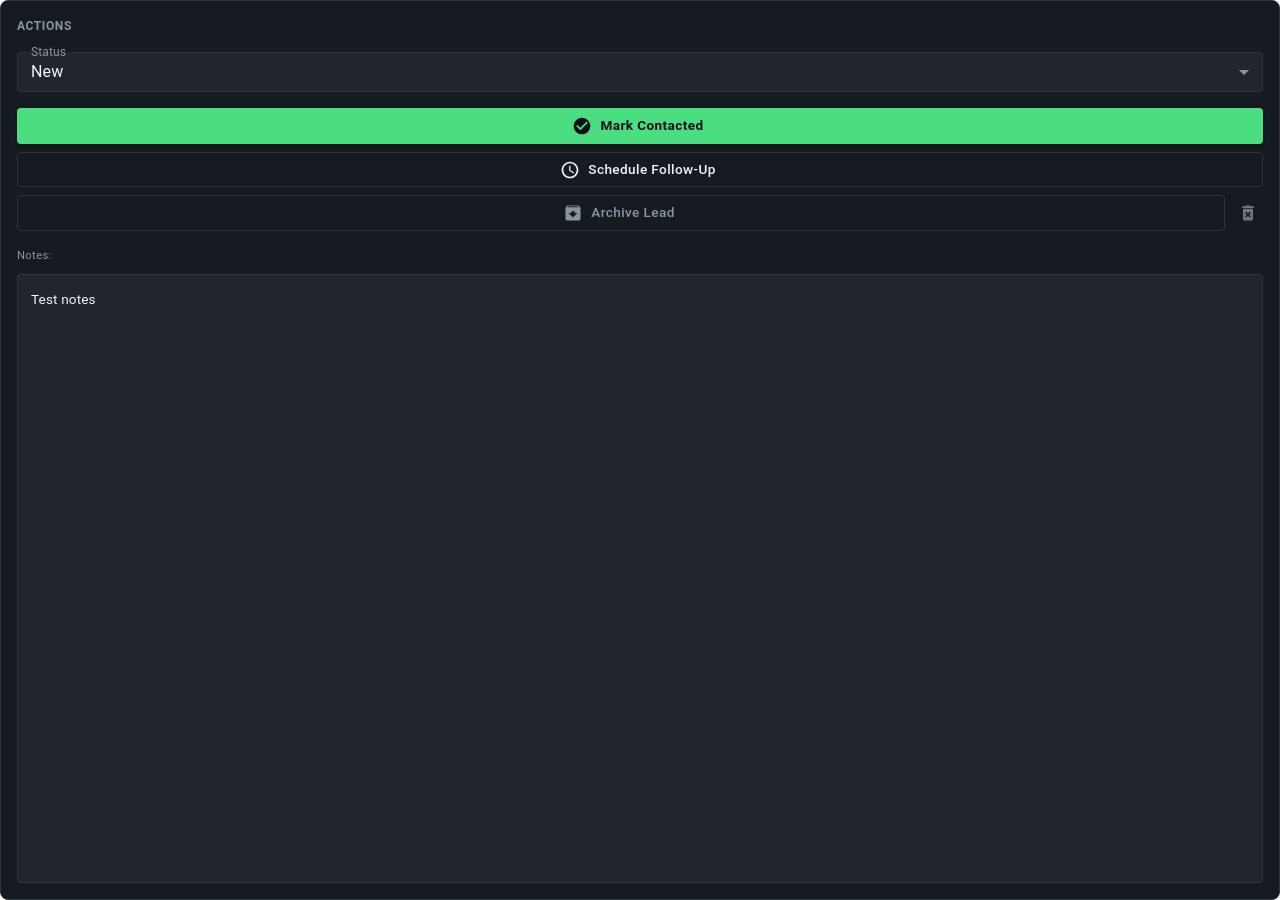
it: ActionsSection › Delete Permanently icon button › should open confirmation dialog when delete icon is clicked
The width and height of the screenshot is (1280, 900).
Click the button with test id "DeleteForeverIcon" at (1248, 213), box 1233,198 -> 1263,228
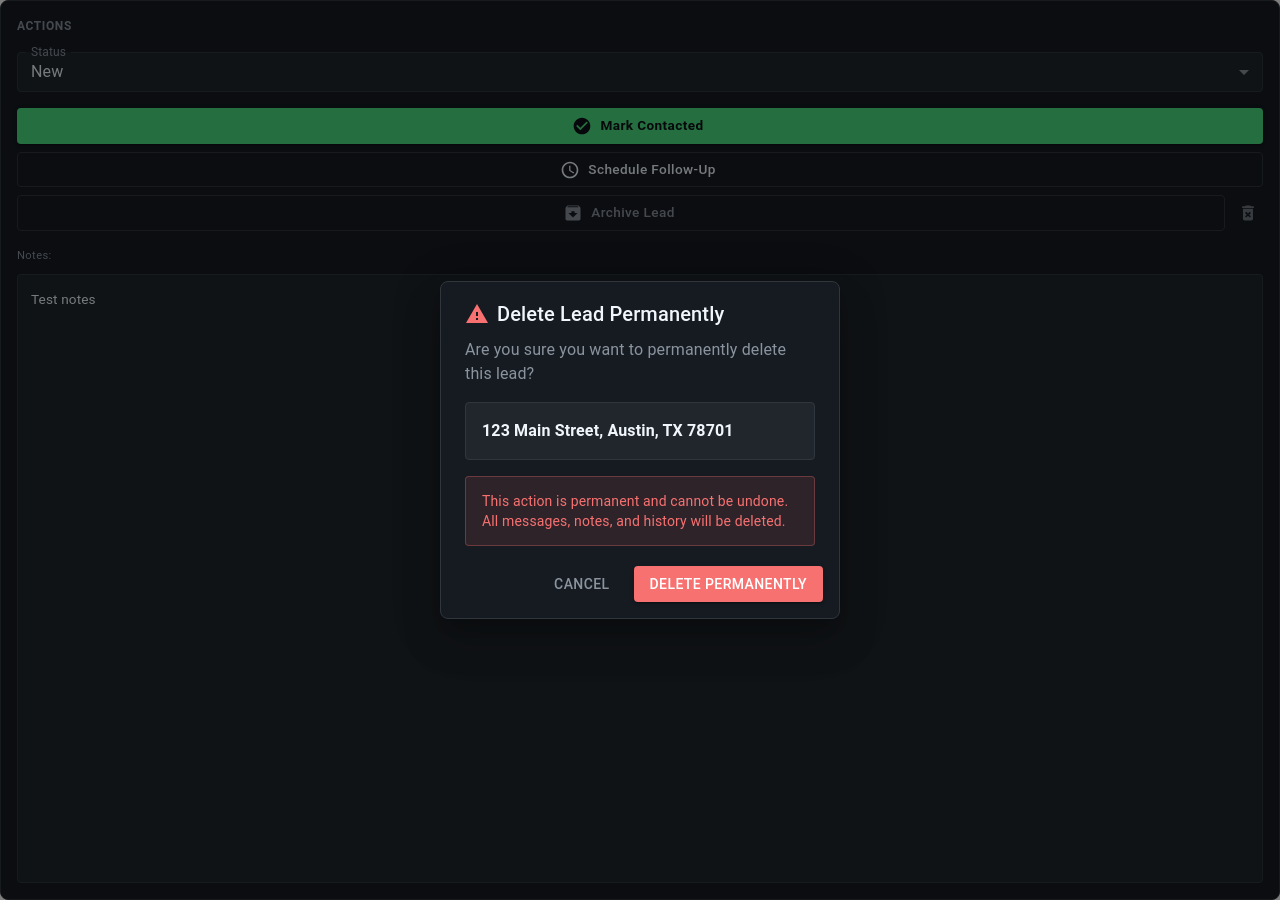
Now the heading "Delete Lead Permanently" is shown, box 465,302 -> 724,326
Now the text "123 Main Street, Austin, TX 78701" is shown, box 482,421 -> 734,440
